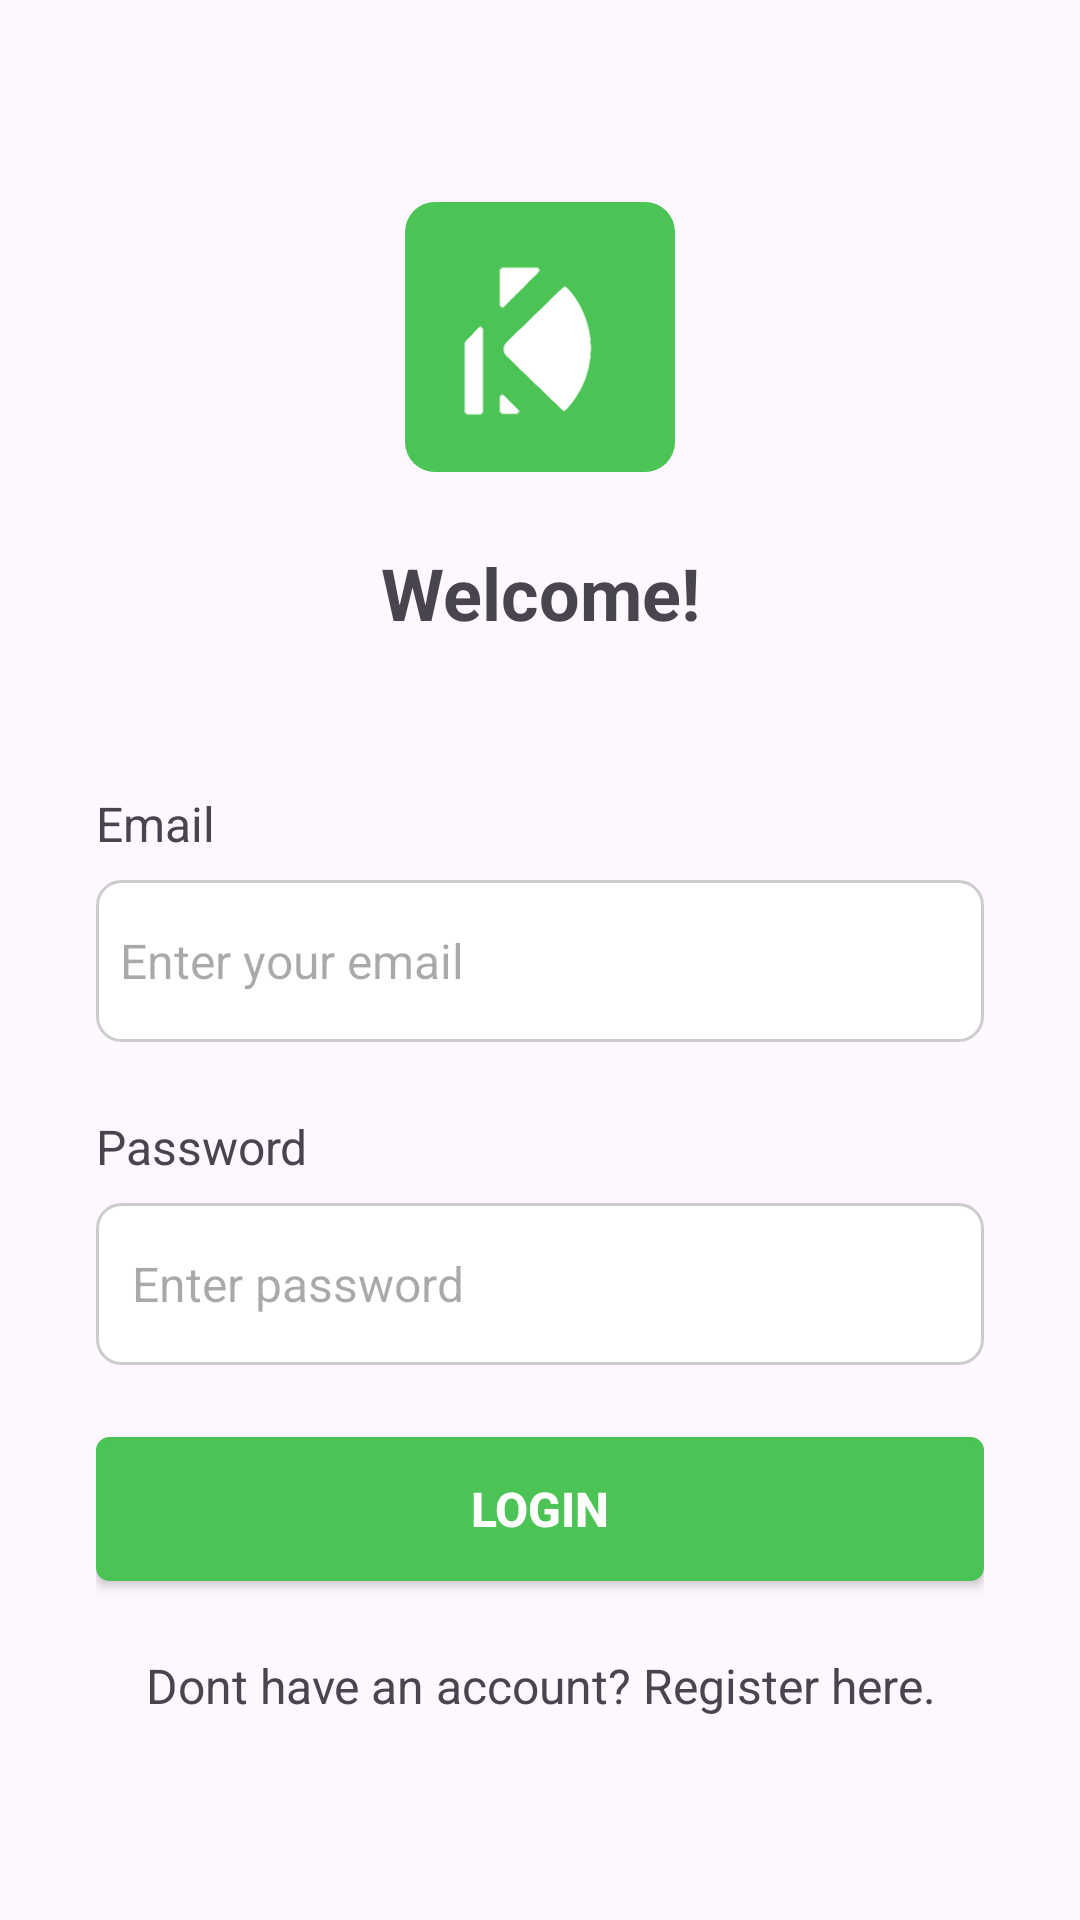

Named icons in this screenshot (1080 x 1920) and their centers, (x=x, y=y):
Icon layered on top of the box: (x=540, y=337)
